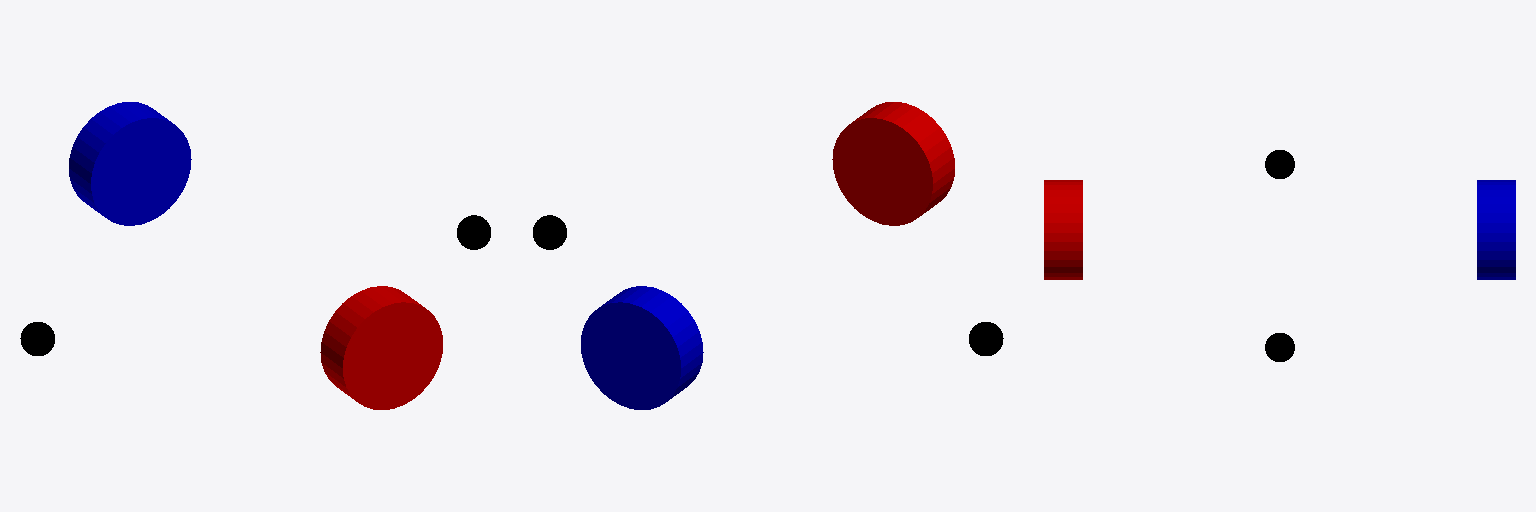
URDF robot description (iRobot):
<?xml version="1.0" ?>
<!-- =================================================================================== -->
<!-- |    This document was autogenerated by xacro from iRobot.urdf.xacro              | -->
<!-- |    EDITING THIS FILE BY HAND IS NOT RECOMMENDED                                 | -->
<!-- =================================================================================== -->
<robot name="iRobot">

    <material name="black"> 
        <color rgba="0 0 0 1"/>
    </material>
    <material name="blue"> 
        <color rgba="0.0 0.0 0.8 1"/>
    </material>
      <material name="red">
    <color rgba="0.8 0.0 0.0 1"/>
  </material>
<material name="grey">
    <color rgba="0.4 0.4 0.4 1.0"/>
  </material>
  <material name="body">
    <texture filename="materials/textures/create_body.png"/>
</material>


    <link name="base_footprint">
        <visual name="base_visual">
            <origin xyz="0 0 0.047800" rpy="0 0 0 " />
            <geometry>
                <mesh filename="meshes/create_body.dae"/>
            </geometry>
            <material name="grey"/>

        </visual>
        <collision name="base_visual">
            <origin xyz="0 0 0.047800" rpy="0 0 0 " />
            <geometry>
                <mesh filename="meshes/create_body.dae"/>
            </geometry>
        </collision>
    </link>

    <!-- Left  Wheel -->
    <link name="left_wheel_link">
        <visual>
            <geometry>
                <cylinder length="0.023000" radius="0.03000"/>
            </geometry>
            <material name="blue"/>
        </visual>
        <collision>
            <geometry>
                <cylinder length="0.023000" radius="0.03000"/>
            </geometry>
        </collision>
    </link>

    <joint name="left_wheel" type="continuous">
        <parent link="base_footprint"/>
        <child link="left_wheel_link"/>
        <origin xyz="0 0.130000 0.033000" rpy="0 1.5708 1.5708" />
        <axis xyz="0 0 1"/>
    </joint>


    <!-- Right  Wheel -->
    <link name="right_wheel_link">
        <visual>
            <geometry>
                <cylinder length="0.023000" radius="0.03000"/>
            </geometry>
            <material name="red"/>
        </visual>
        <collision>
            <geometry>
                <cylinder length="0.023000" radius="0.03000"/>
            </geometry>
        </collision>
    </link>

    <joint name="right_wheel" type="continuous">
        <parent link="base_footprint"/>
        <child link="right_wheel_link"/>
        <origin xyz="0 -0.130000 0.033000" rpy="0 1.5708 1.5708" />
        <axis xyz="0 0 1"/>
    </joint>


    <!-- front  Wheel -->
    <link name="front_wheel_link">
        <visual>
            <geometry>
                <sphere radius="0.009" />
            </geometry>
            <material name="black"/>
        </visual>
        <collision>
            <geometry>
                <sphere radius="0.01000" />
            </geometry>
        </collision>
    </link>

    <joint name="front_wheel" type="continuous">
        <parent link="base_footprint"/>
        <child link="front_wheel_link"/>
        <origin xyz="0.130000 0 0.016000" rpy="0 0 0" />
        <axis xyz="0 0 1"/>
    </joint>

    <!-- rear  Wheel -->
    <link name="rear_wheel_link">
        <visual>
            <geometry>
                <sphere radius="0.009" />
            </geometry>
            <material name="black"/>
        </visual>
        <collision>
            <geometry>
                <sphere radius="0.01000" />
            </geometry>
        </collision>
    </link>

    <joint name="rear_wheel" type="continuous">
        <parent link="base_footprint"/>
        <child link="rear_wheel_link"/>
        <origin xyz="-0.130000 0 0.016000" rpy="0 0 0" />
        <axis xyz="0 0 1"/>
    </joint>


  <link name="laser">
    <inertial>
      <origin rpy="0 0 0" xyz="0 0 0"/>
      <mass value="0.0"/>
      <inertia ixx="4E-06" ixy="0" ixz="0" iyy="4E-06" iyz="0" izz="4E-06"/>
    </inertial>
    <collision>
      <origin rpy="0 0 0" xyz="0 0 0"/>
      <geometry>
        <box size="0.1 0.1 0.1"/>
      </geometry>
    </collision>
    <visual>
      <origin rpy="0 0 0" xyz="0 0 0"/>
      <geometry>
        <mesh filename="meshes/hokuyo.obj"/>
        <material name="grey"/>
      </geometry>
    </visual>
  </link>

  <joint name="hokuyo_joint" type="fixed">
    <origin rpy="0 0 0" xyz="-0.08 0.0 0.085"/>
    <parent link="base_footprint"/>
    <child link="laser"/>
    <axis xyz="0 0 1"/>
  </joint>


</robot>

--- What the picture shows (computed from the rendered views, not written in the file) ---
Views: 3 orthographic renders of the robot side by side, from view 1: azimuth 30°, elevation 25°; view 2: azimuth 150°, elevation 25°; view 3: azimuth 270°, elevation 25°.
Robot: iRobot — 6 links, 5 joints (4 continuous, 1 fixed); root link base_footprint; default pose: all joints at 0.
Visible links, largest first — view 1: left_wheel_link, right_wheel_link, rear_wheel_link, front_wheel_link; view 2: left_wheel_link, right_wheel_link, rear_wheel_link, front_wheel_link; view 3: left_wheel_link, right_wheel_link, front_wheel_link, rear_wheel_link.
Boxes of the visible links, x1,y1,x2,y2 form: left_wheel_link: (69,102,191,225); right_wheel_link: (320,286,442,409); rear_wheel_link: (20,322,54,355); front_wheel_link: (457,215,490,249); left_wheel_link: (581,286,703,409); right_wheel_link: (832,102,954,225); rear_wheel_link: (969,322,1003,355); front_wheel_link: (533,215,566,249); left_wheel_link: (1477,180,1515,279); right_wheel_link: (1044,180,1082,279); front_wheel_link: (1265,333,1294,361); rear_wheel_link: (1265,150,1294,178).
Size in the robot's own frame: 0.278 by 0.283 by 0.06 metres.
0 mesh visuals loaded from 2 distinct referenced files (none loaded); not drawn: 2 (reference not matched to a file when rendering).